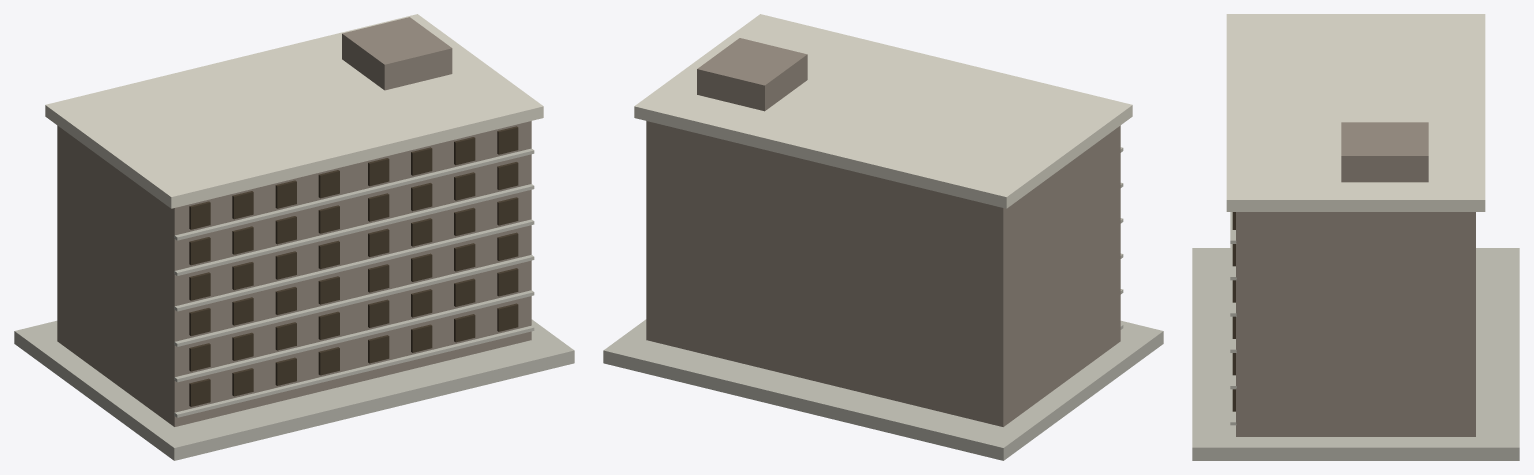
Rendered from shanghai.glb.
3 views of the same model, side by side, from view 1: azimuth 30°, elevation 25°; view 2: azimuth 150°, elevation 25°; view 3: azimuth 270°, elevation 25° (orthographic). The views are drawn at different scales.
Visible parts, largest first — view 1: warehouse, roof cornice, stone plinth, roof tower, floor sill.003, floor sill.005, floor sill, floor sill.001, floor sill.002, floor sill.004; view 2: warehouse, roof cornice, stone plinth, roof tower; view 3: warehouse, roof cornice, stone plinth, roof tower.
Part boxes in pixels (left/top/right/bottom): warehouse: left=57, top=121, right=531, bottom=426; roof cornice: left=45, top=14, right=543, bottom=208; stone plinth: left=14, top=319, right=574, bottom=460; roof tower: left=342, top=17, right=452, bottom=90; floor sill.003: left=174, top=219, right=534, bottom=311; floor sill.005: left=174, top=148, right=534, bottom=240; floor sill: left=174, top=325, right=534, bottom=417; floor sill.001: left=174, top=290, right=534, bottom=382; floor sill.002: left=174, top=255, right=534, bottom=346; floor sill.004: left=174, top=184, right=534, bottom=275; warehouse: left=646, top=121, right=1120, bottom=426; roof cornice: left=634, top=14, right=1132, bottom=208; stone plinth: left=603, top=319, right=1163, bottom=460; roof tower: left=697, top=38, right=807, bottom=111; warehouse: left=1236, top=212, right=1475, bottom=436; roof cornice: left=1226, top=14, right=1485, bottom=211; stone plinth: left=1192, top=248, right=1519, bottom=460; roof tower: left=1341, top=122, right=1428, bottom=182.
Bounding box in the file's own units: 6.5 × 4.25 × 4.5.
